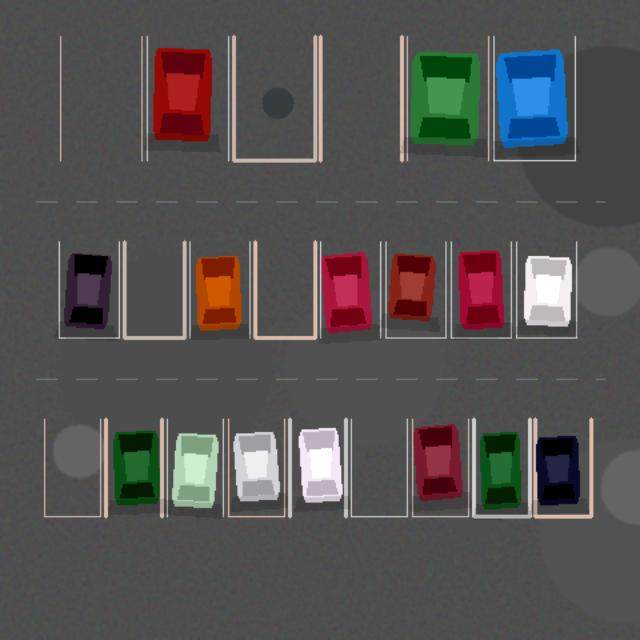space-empty: (233, 36, 315, 160), (60, 36, 141, 160), (320, 36, 401, 160), (124, 241, 184, 337), (255, 241, 315, 337), (44, 419, 100, 516), (351, 419, 407, 516)
space-occupied: (493, 36, 575, 160), (147, 36, 228, 160), (407, 36, 488, 160), (59, 241, 119, 337), (189, 241, 249, 337), (320, 241, 380, 337), (385, 241, 445, 337), (451, 241, 511, 337), (516, 241, 576, 337), (105, 419, 161, 516), (167, 419, 223, 516), (228, 419, 284, 516), (289, 419, 345, 516), (412, 419, 468, 516), (473, 419, 529, 516), (535, 419, 591, 516)
